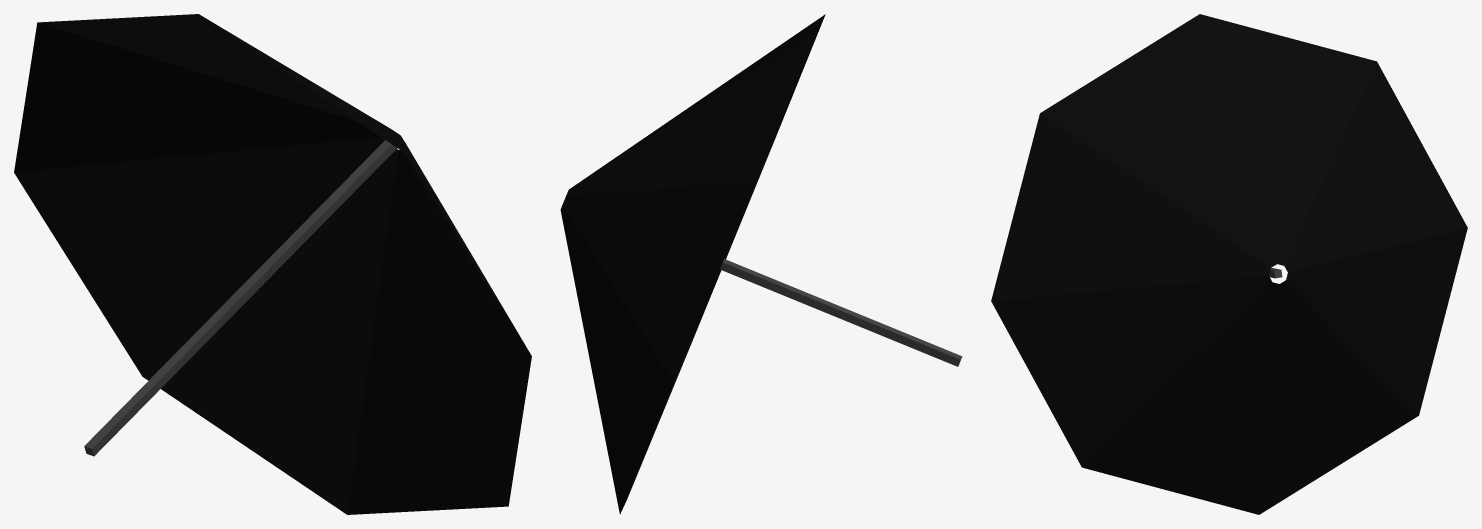
The model's file is umbrella_dropped.glb.
3 views of the same model, side by side, from view 1: azimuth 30°, elevation 25°; view 2: azimuth 150°, elevation 25°; view 3: azimuth 270°, elevation 25° (orthographic). The views are drawn at different scales.
Visible parts, largest first — view 1: umbrella_dropped; view 2: umbrella_dropped; view 3: umbrella_dropped.
Boxes of the visible parts, x1,y1,x2,y2 form: umbrella_dropped: (14,14,531,514); umbrella_dropped: (560,14,962,514); umbrella_dropped: (991,14,1467,514).
Size of the model in its own units: 0.6766 by 0.9397 by 0.9397.
Materials: 2 (2 with a texture image).
